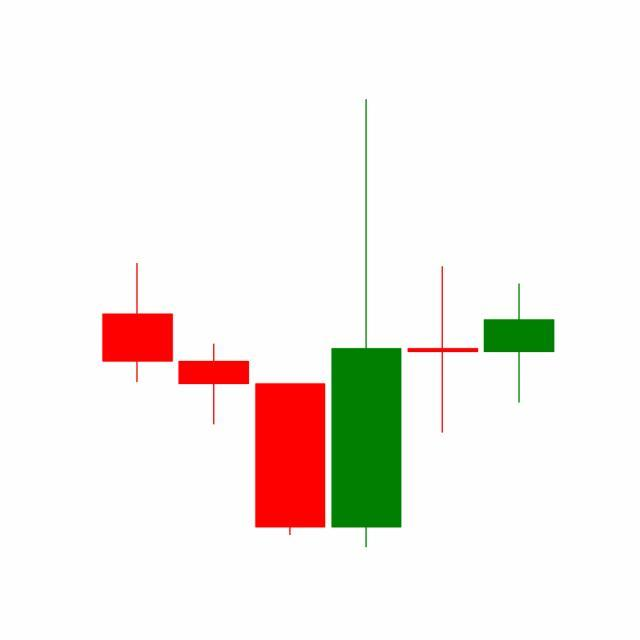Spinning Top: (404, 265, 482, 436)
